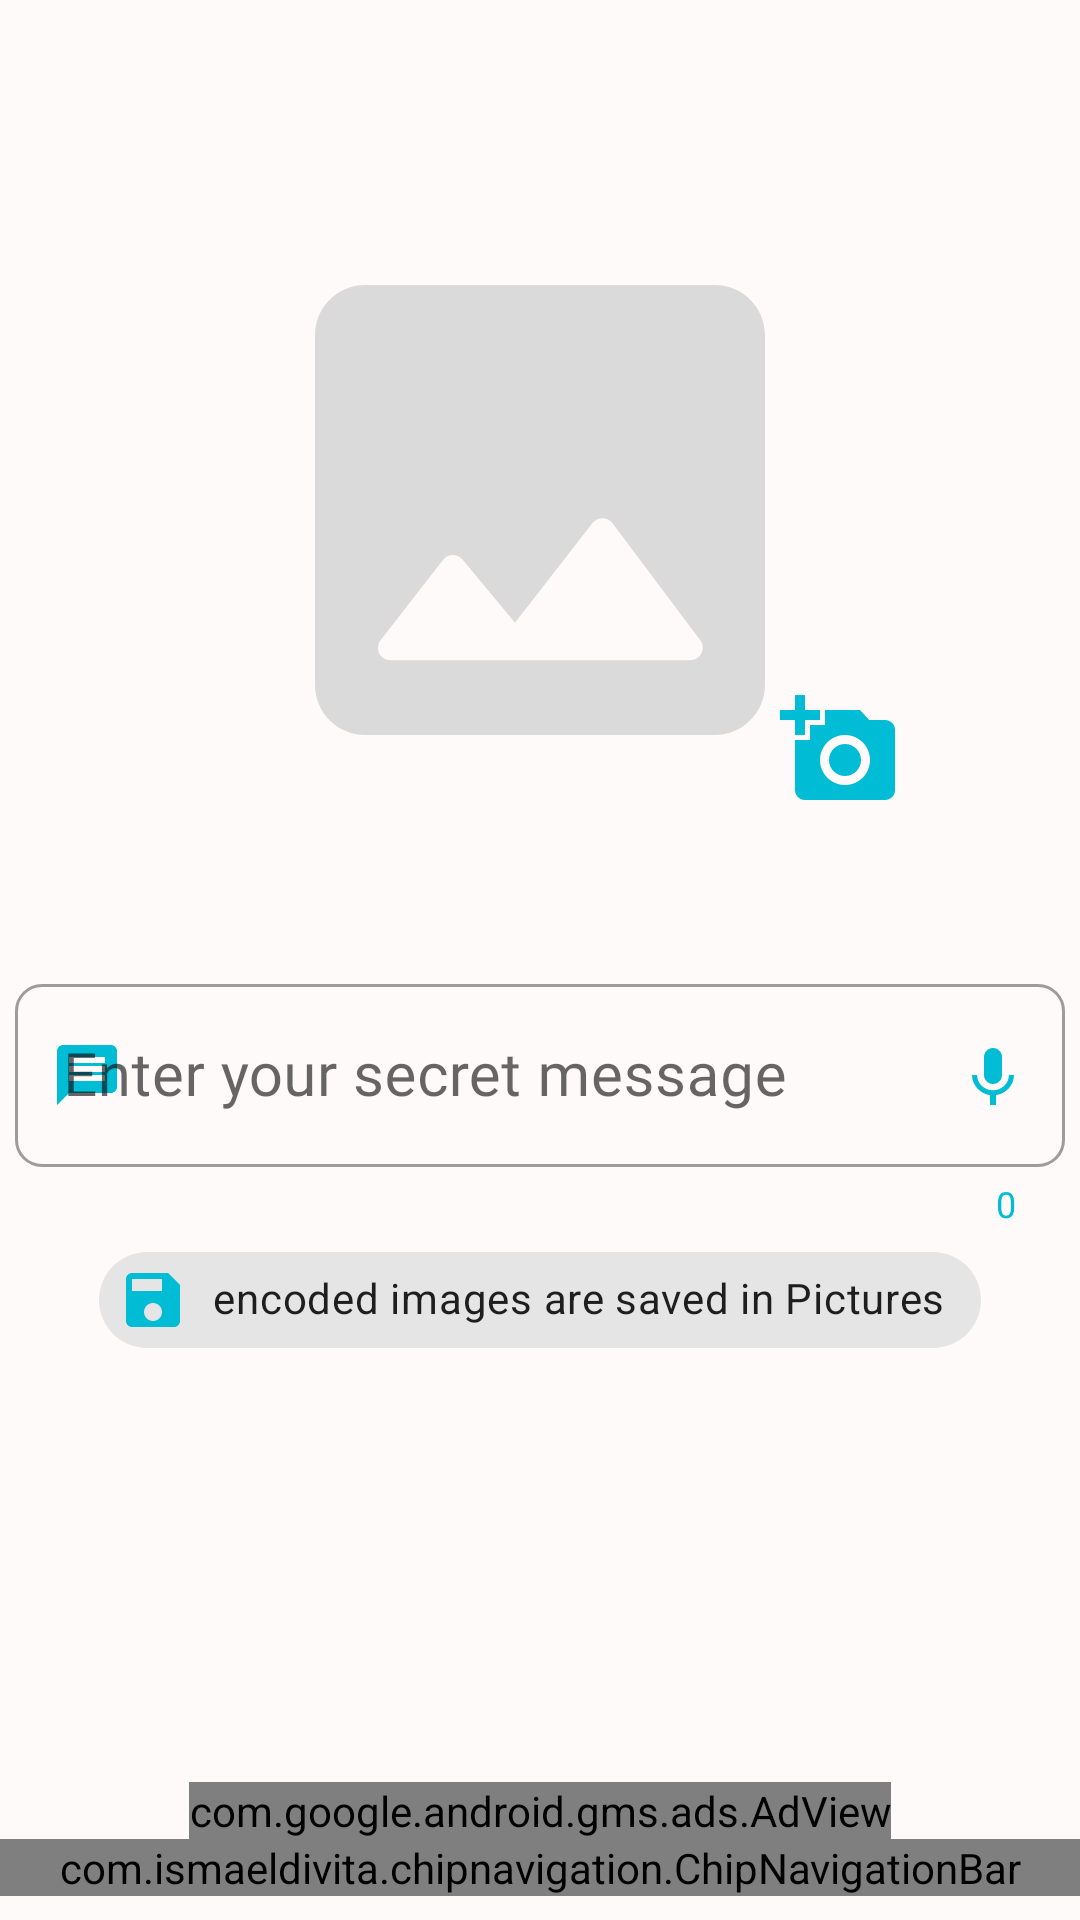

Named icons in this screenshot (1080 x 1920) and their centers, point (x, y):
add photo: point (837, 747)
